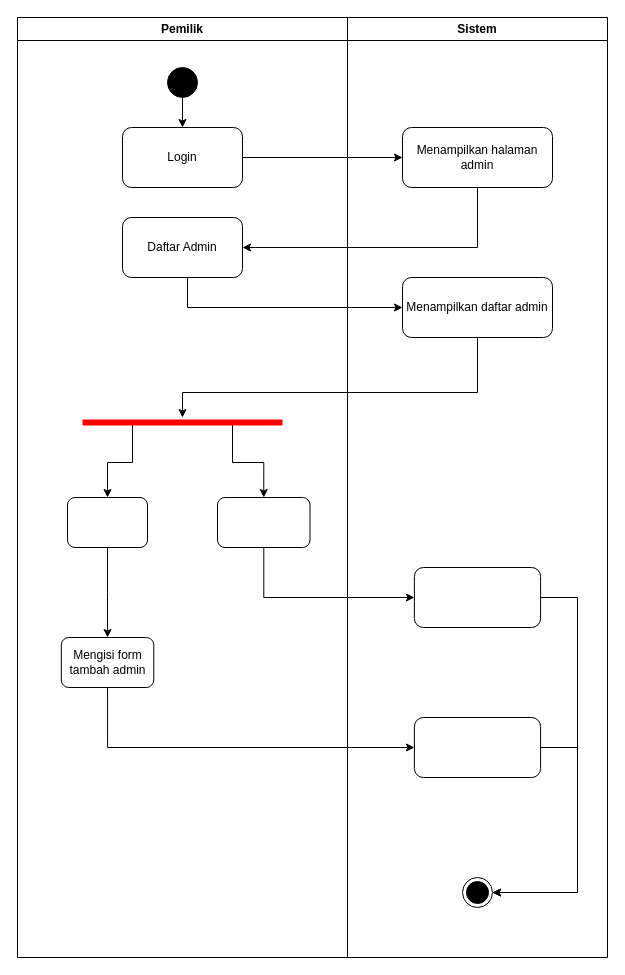
The diagram is 625 pixels wide and 975 high, and some of its shapes have lost their labels. The shapes that lost their labels are listed below. From the top down, each one's centre as x and y in pixels, then its label:
At (x=107, y=522): "Menambah Admin".
At (x=263, y=522): "Menghapus Admin".
At (x=477, y=597): "Admin yang dihapus tidak dapat login".
At (x=477, y=747): "Dapat melakukan login dengan akun yang sudah dibuat".
